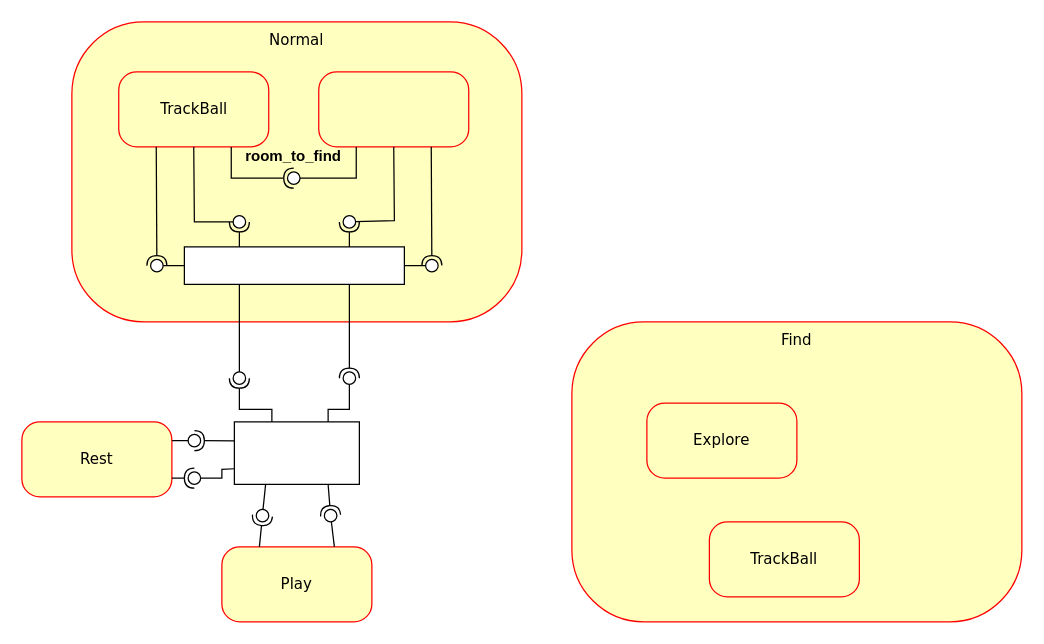
Image size: 1044x644. Some labels were removed from this diagram. Each missing label, with the centre of its shape:
fatigue_level: the point at 296,452
Move: the point at 393,109
normal_ssm_fatigue_counter: the point at 293,265
